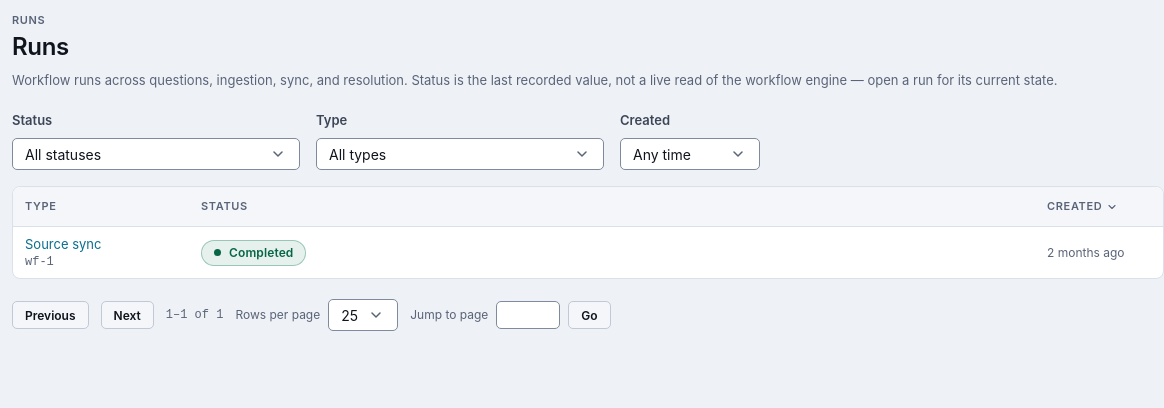
Scenario: RunsPage › applies the status and type filters as query parameters, not client-side
Expected: the link "Source sync" is shown, 25,236 -> 102,252
// Each select applies as it changes, so the type request carries the status already applied.
Select "Failed" in the dropdown labelled "Status": (156, 154) 12,138 -> 300,170
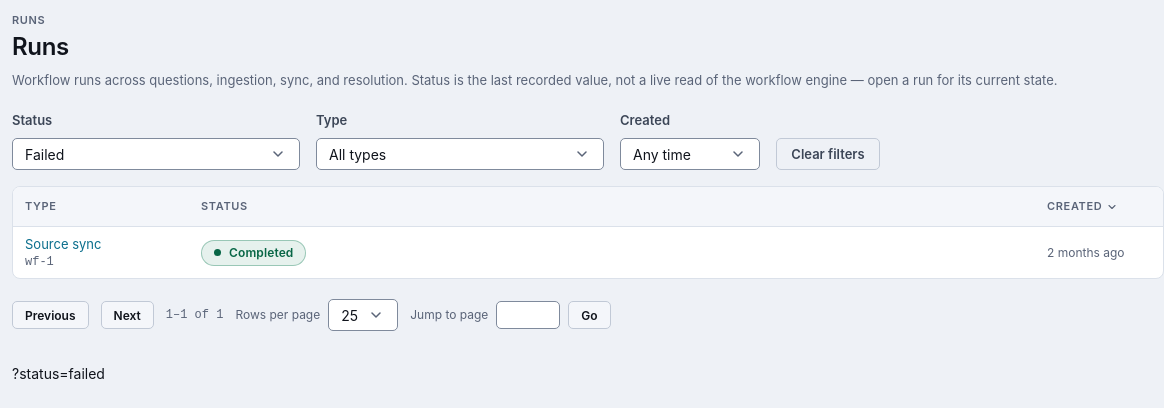
Select "Conflict resolution" in the dropdown labelled "Type": (460, 154) 316,138 -> 604,170
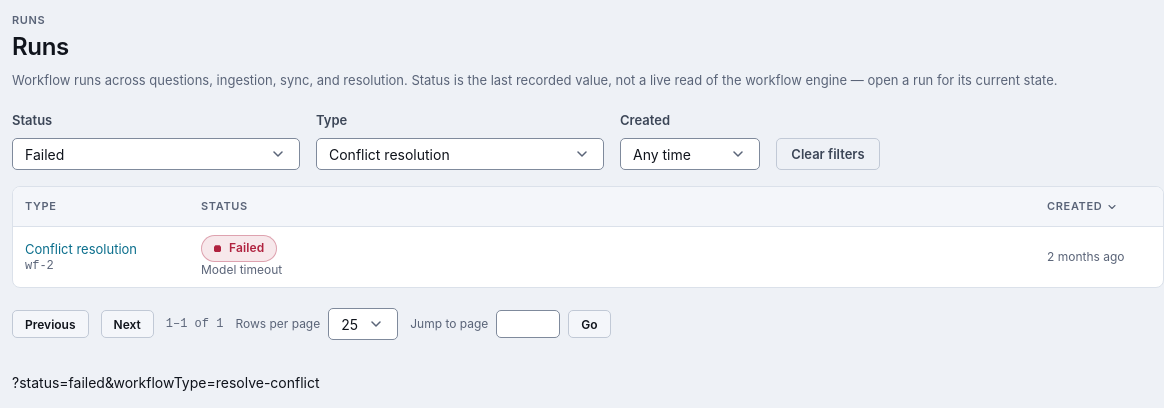
Result: the link "Conflict resolution" is shown at 25,241 -> 137,257
